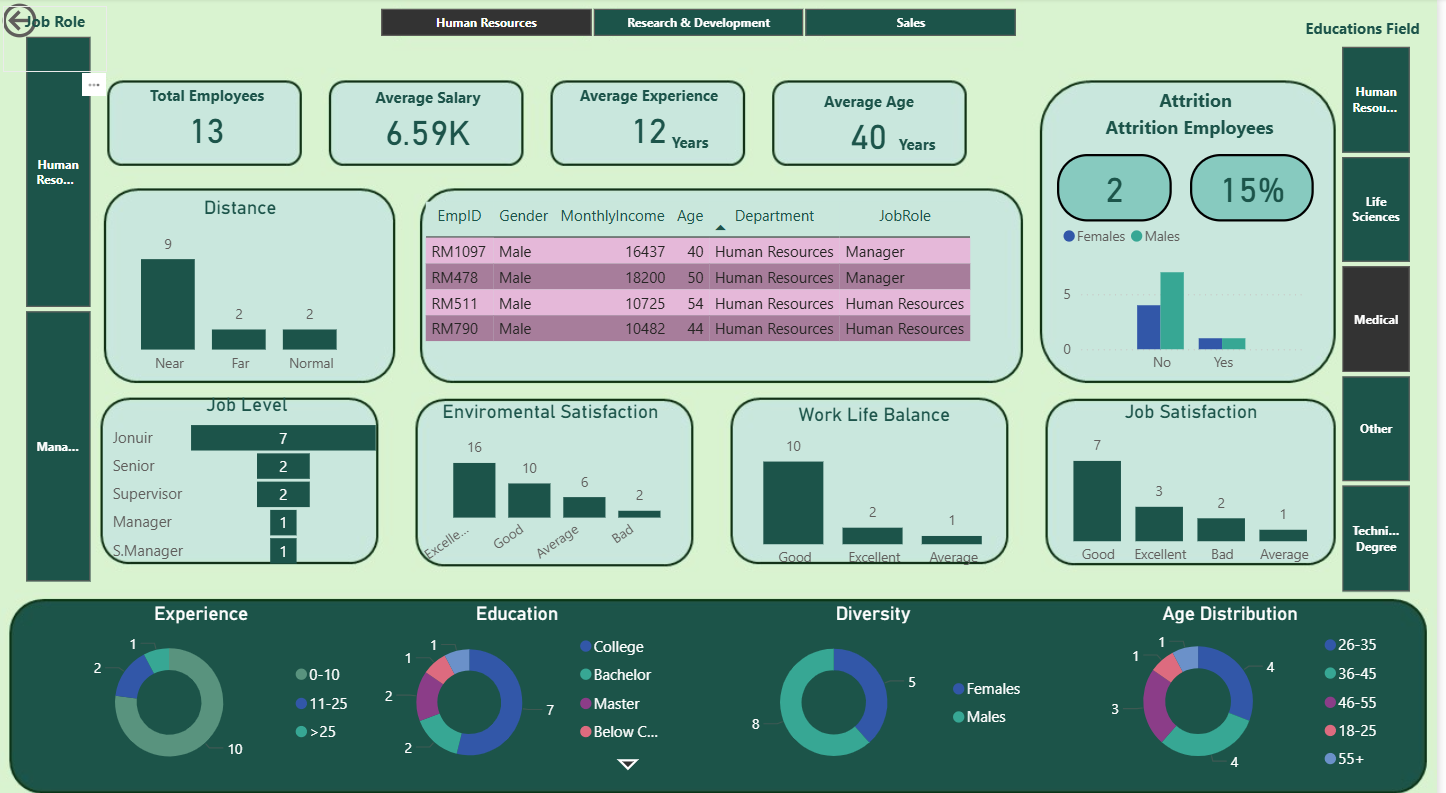

Layout of this report page (visuals, bound fields, positions):
{"tool":"powerbi","page":{"name":"HR Dashboard 1","canvas":[1280,720],"ordinal":0},"visuals":[{"type":"textbox","box":[119.1,72.9,135.1,43.6],"z":0},{"type":"card","fields":{"Values":["All Measures.Total Employees"]},"box":[106.7,84.4,159.1,63.1],"z":1000},{"type":"slicer","fields":{"Values":["HR_Analytics.JobRole"]},"box":[0,27.6,106.7,497.8],"z":2000},{"type":"actionButton","box":[0,0,100,40],"z":3000},{"type":"textbox","box":[5.3,7.1,92.4,58.7],"z":4000},{"type":"slicer","fields":{"Values":["HR_Analytics.EducationField"]},"box":[1169.8,36.4,110.2,497.8],"z":5000},{"type":"textbox","box":[1147.3,13.7,132.7,36.6],"z":6000},{"type":"textbox","box":[315.8,74.9,135.1,43.6],"z":7000},{"type":"card","fields":{"Values":["All Measures.Average Salary"]},"box":[303.3,86.4,159.1,63.1],"z":8000},{"type":"textbox","box":[512.2,73.1,135.1,43.6],"z":9000},{"type":"card","fields":{"Values":["All Measures.Average Experience"]},"box":[499.8,84.7,159.1,63.1],"z":10000},{"type":"textbox","box":[707.8,78.4,135.1,43.6],"z":11000},{"type":"card","fields":{"Values":["All Measures.Average Age"]},"box":[695.3,90,159.1,63.1],"z":12000},{"type":"slicer","fields":{"Values":["HR_Analytics.Department"]},"box":[315.6,2.7,614.2,37.3],"z":13000},{"type":"textbox","box":[750.2,116.4,135.1,43.6],"z":14000},{"type":"textbox","box":[548.4,114.7,135.1,43.6],"z":15000},{"type":"textbox","box":[1021.3,74.7,88,47.1],"z":16000},{"type":"textbox","box":[972.4,98.7,175.1,37.3],"z":17000},{"type":"card","fields":{"Values":["All Measures.AttritedEmp"]},"box":[942.2,138.7,102.2,59.6],"z":18000},{"type":"card","fields":{"Values":["All Measures.Attrition Rate"]},"box":[1060.4,138.7,110.2,59.6],"z":19000},{"type":"clusteredColumnChart","fields":{"Category":["HR_Analytics.Attrition"],"Y":["All Measures.Females","All Measures.Males"]},"box":[942.2,192,224,150.2],"z":20000},{"type":"columnChart","title":"Distance","fields":{"Category":["HR_Analytics.DistanceFromHome (groups)"],"Y":["CountNonNull(HR_Analytics.DistanceFromHome)"]},"box":[97.9,175.7,237,166.5],"z":21000},{"type":"tableEx","fields":{"Values":["HR_Analytics.EmpID","HR_Analytics.Gender","HR_Analytics.MonthlyIncome","HR_Analytics.Age","HR_Analytics.Department","HR_Analytics.JobRole"]},"box":[375.1,176,536,166.2],"z":22000},{"type":"columnChart","title":"Job Satisfaction","fields":{"Category":["HR_Analytics.JobSatisfaction (groups)"],"Y":["CountNonNull(HR_Analytics.JobSatisfaction)"]},"box":[929.6,357.7,263.5,155.5],"z":23000},{"type":"columnChart","title":"Work Life Balance","fields":{"Category":["HR_Analytics.WorkLifeBalance (groups)"],"Y":["CountNonNull(HR_Analytics.WorkLifeBalance)"]},"box":[647.8,359.6,263.5,155.5],"z":24000},{"type":"columnChart","title":"Enviromental Satisfaction","fields":{"Y":["Sum(HR_Analytics.EnvironmentSatisfaction)"],"Category":["HR_Analytics.EnvironmentSatisfaction (groups)"]},"box":[367.8,357.7,247.9,155.5],"z":25000},{"type":"funnel","title":"Job Level","fields":{"Category":["HR_Analytics.Job Levels Details"],"Y":["CountNonNull(HR_Analytics.JobRole)"]},"box":[97.9,351.3,248.9,159.2],"z":26000},{"type":"donutChart","title":"Experience","fields":{"Category":["HR_Analytics.YearsAtCompany (groups)"],"Y":["CountNonNull(HR_Analytics.YearsAtCompany)"]},"box":[36.6,537.1,290,157.4],"z":27000},{"type":"donutChart","title":"Education","fields":{"Category":["HR_Analytics.Education (groups)"],"Y":["CountNonNull(HR_Analytics.EducationField)"]},"box":[317.5,537.1,290,157.4],"z":28000},{"type":"donutChart","title":"Diversity","fields":{"Y":["All Measures.Females","All Measures.Males"]},"box":[634.1,537.1,290,157.4],"z":29000},{"type":"donutChart","title":"Age Distribution","fields":{"Category":["HR_Analytics.AgeGroup"],"Y":["CountNonNull(HR_Analytics.AgeGroup)"]},"box":[951.5,537.1,290,157.4],"z":30000}]}

Visuals, with their boxes in screenshot pixels (x1, y1, x2, y2), scaled from the page's 1280x720 canvas onto the 1446x793 screenshot:
textbox: Rect(135, 80, 287, 128)
card - All Measures.Total Employees: Rect(121, 93, 300, 162)
slicer - HR_Analytics.JobRole: Rect(0, 30, 121, 579)
actionButton: Rect(0, 0, 113, 44)
textbox: Rect(6, 8, 110, 72)
slicer - HR_Analytics.EducationField: Rect(1322, 40, 1445, 588)
textbox: Rect(1296, 15, 1445, 55)
textbox: Rect(357, 82, 509, 131)
card - All Measures.Average Salary: Rect(343, 95, 522, 165)
textbox: Rect(579, 81, 731, 129)
card - All Measures.Average Experience: Rect(565, 93, 744, 163)
textbox: Rect(800, 86, 952, 134)
card - All Measures.Average Age: Rect(785, 99, 965, 169)
slicer - HR_Analytics.Department: Rect(357, 3, 1050, 44)
textbox: Rect(847, 128, 1000, 176)
textbox: Rect(620, 126, 772, 174)
textbox: Rect(1154, 82, 1253, 134)
textbox: Rect(1099, 109, 1296, 150)
card - All Measures.AttritedEmp: Rect(1064, 153, 1180, 218)
card - All Measures.Attrition Rate: Rect(1198, 153, 1322, 218)
clusteredColumnChart - HR_Analytics.Attrition x All Measures.Females: Rect(1064, 211, 1317, 377)
"Distance" columnChart: Rect(111, 194, 378, 377)
tableEx - HR_Analytics.EmpID x HR_Analytics.Gender: Rect(424, 194, 1029, 377)
"Job Satisfaction" columnChart: Rect(1050, 394, 1348, 565)
"Work Life Balance" columnChart: Rect(732, 396, 1029, 567)
"Enviromental Satisfaction" columnChart: Rect(415, 394, 696, 565)
"Job Level" funnel: Rect(111, 387, 392, 562)
"Experience" donutChart: Rect(41, 592, 369, 765)
"Education" donutChart: Rect(359, 592, 686, 765)
"Diversity" donutChart: Rect(716, 592, 1044, 765)
"Age Distribution" donutChart: Rect(1075, 592, 1403, 765)
